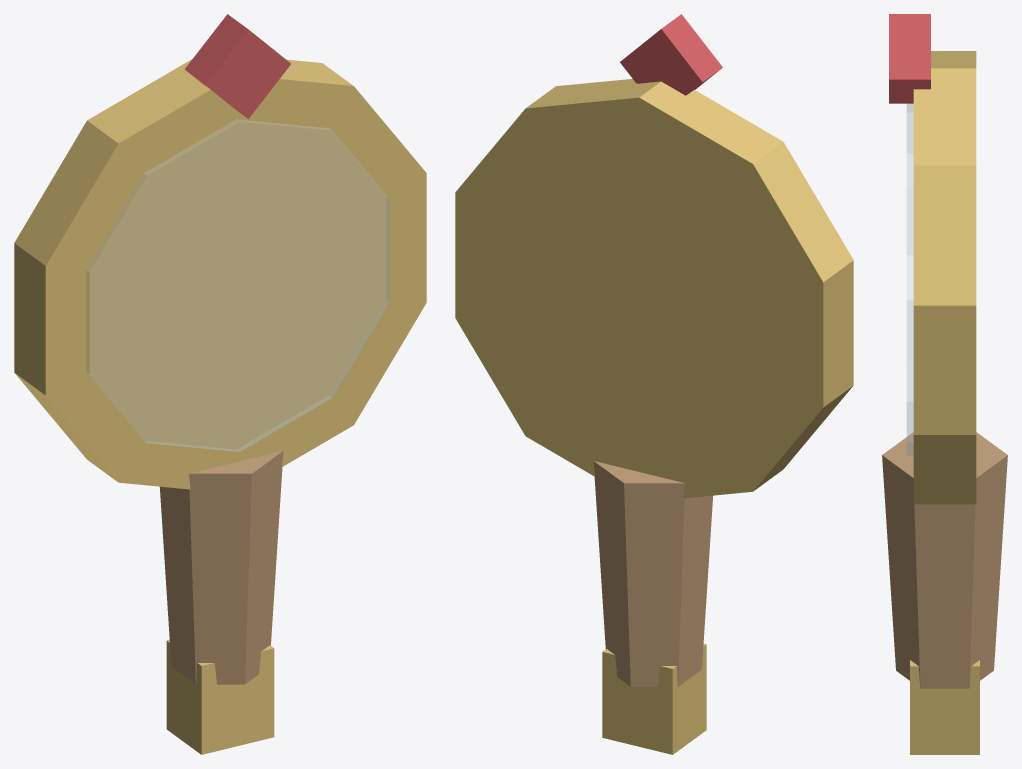
The model's file is LP_Item_V08.fbx.
3 renders of one model, left to right at view 1: azimuth 30°, elevation 25°; view 2: azimuth 150°, elevation 25°; view 3: azimuth 270°, elevation 25°, orthographic. The views are drawn at different scales.
Parts seen in each view (by area): view 1: ArtifactMesh; view 2: ArtifactMesh; view 3: ArtifactMesh.
Part boxes in pixels (x1,y1,x2,y2): ArtifactMesh: (14, 14, 426, 754); ArtifactMesh: (455, 14, 853, 754); ArtifactMesh: (882, 14, 1007, 754).
Size of the model in its own units: 0.1255 by 0.2281 by 0.036.
